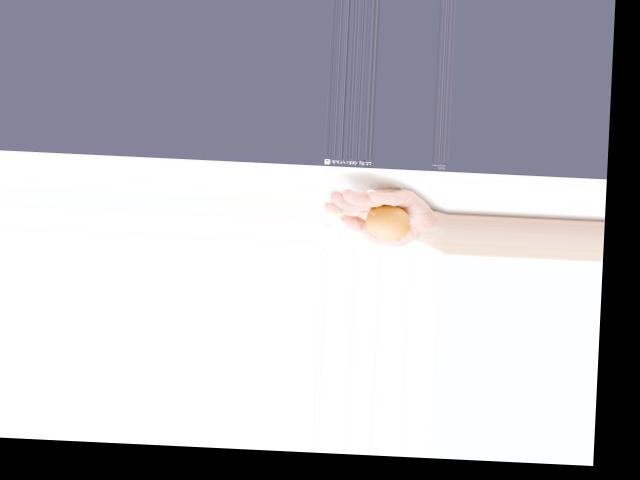egg: (365, 204, 412, 242)
